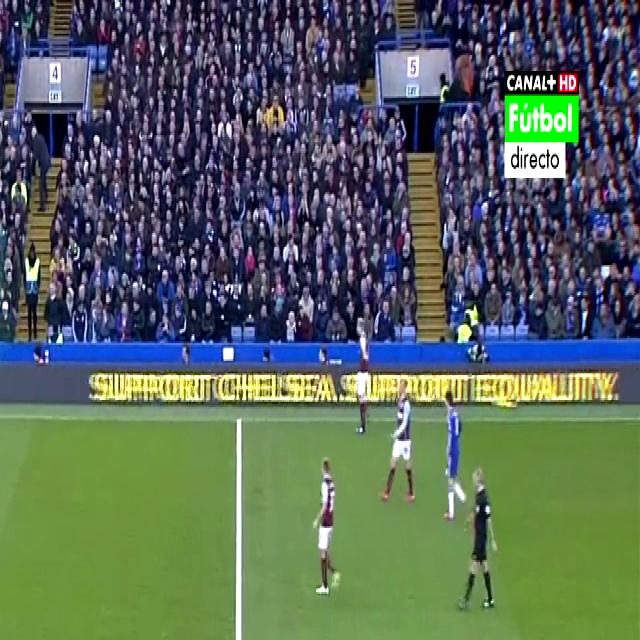referee: (452, 464, 507, 634)
soccer-player: (302, 440, 347, 614), (380, 366, 422, 522), (433, 384, 471, 524), (349, 308, 377, 447)
